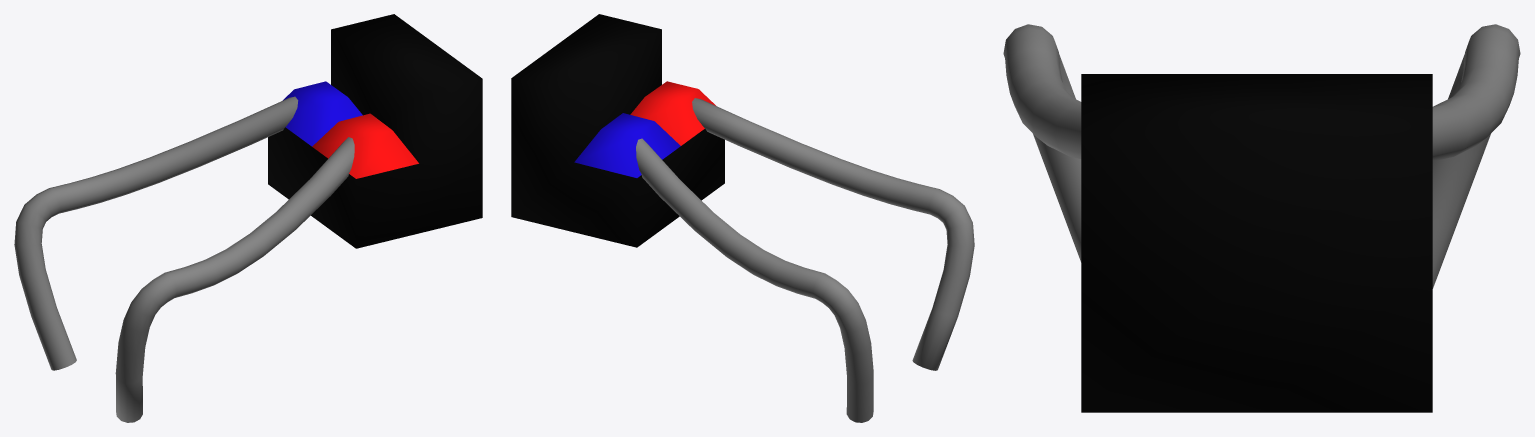
Rendered from LargeInteractableBattery_Prop.fbx.
3 renders of one model, left to right at view 1: azimuth 30°, elevation 25°; view 2: azimuth 150°, elevation 25°; view 3: azimuth 270°, elevation 25°, orthographic. The views are drawn at different scales.
Parts seen in each view (by area): view 1: Box010; view 2: Box010; view 3: Box010.
Part boxes in pixels (x1,y1,x2,y2): Box010: (14,14,482,422); Box010: (511,14,974,422); Box010: (1003,24,1520,412).
Bounding box in the file's own units: 15.52 × 10.74 × 9.52.
